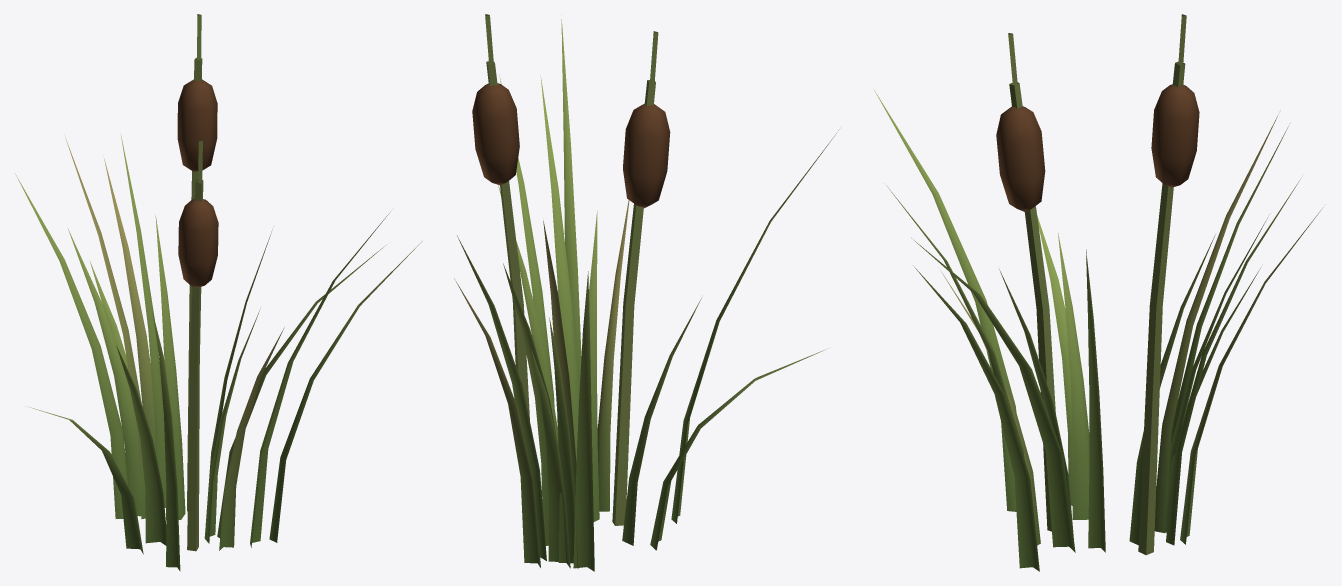
Rendered from reeds-b.glb.
3 views of the same model, side by side, from view 1: azimuth 30°, elevation 25°; view 2: azimuth 150°, elevation 25°; view 3: azimuth 270°, elevation 25° (orthographic). The views are drawn at different scales.
Visible parts, largest first — view 1: reeds-b; view 2: reeds-b; view 3: reeds-b.
Boxes of the visible parts, left/top/right/bottom form: reeds-b: left=15, top=14, right=422, bottom=571; reeds-b: left=454, top=14, right=839, bottom=571; reeds-b: left=874, top=14, right=1323, bottom=571.
Size of the model in its own units: 0.8545 by 1.12 by 0.8392.
